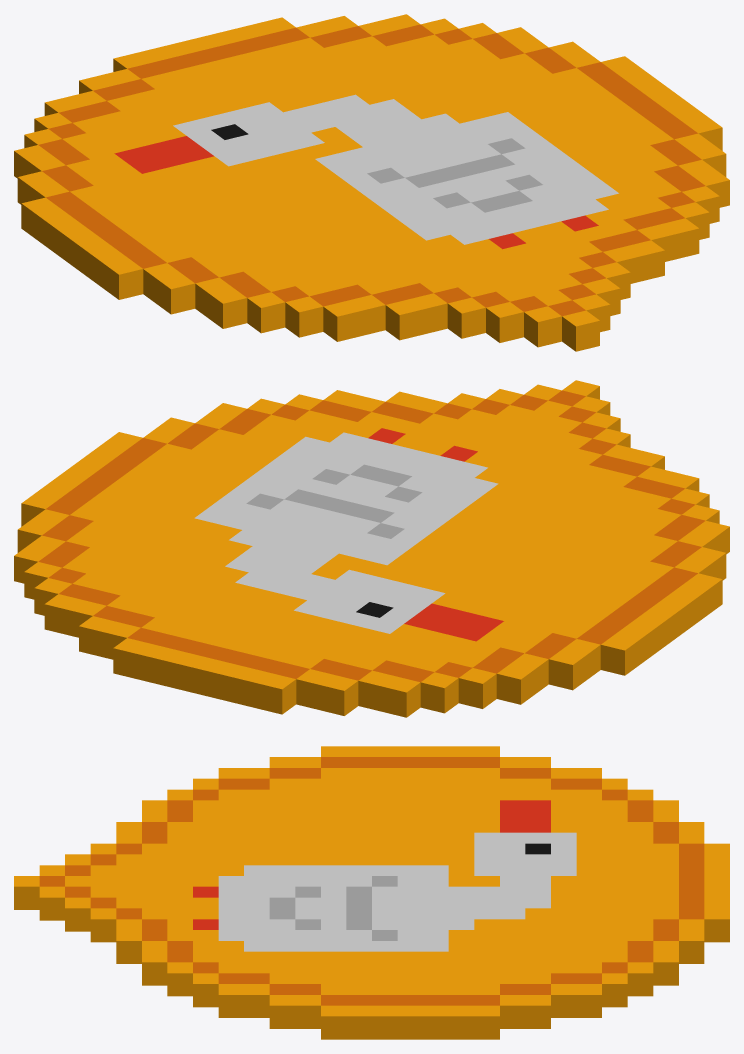
File: duck_pic.fbx
3 renders of one model, top to bottom at view 1: azimuth 30°, elevation 25°; view 2: azimuth 150°, elevation 25°; view 3: azimuth 270°, elevation 25°, orthographic. The views are drawn at different scales.
Visible parts, largest first — view 1: duck_pic:duck_pic; view 2: duck_pic:duck_pic; view 3: duck_pic:duck_pic.
Part boxes in pixels (x1,y1,x2,y2): duck_pic:duck_pic: [14, 14, 729, 351]; duck_pic:duck_pic: [14, 380, 729, 717]; duck_pic:duck_pic: [14, 746, 729, 1039].
Bounding box in the file's own units: 25 × 1 × 28.
